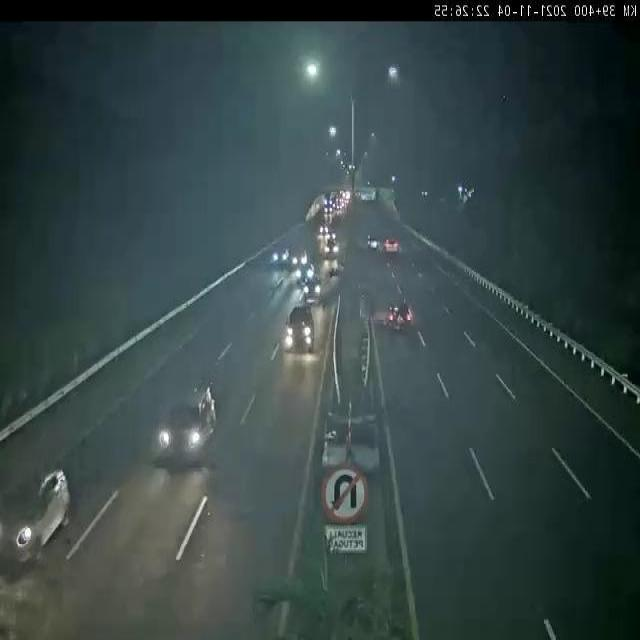Car: (0, 454, 80, 593), (155, 380, 219, 466), (276, 298, 314, 362), (386, 296, 414, 338), (299, 271, 329, 305), (268, 243, 294, 270), (289, 245, 311, 275), (362, 228, 386, 255), (384, 232, 404, 262), (322, 238, 342, 260)
